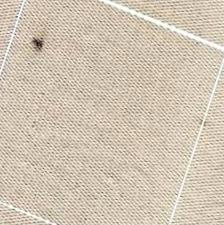stain: (28, 32, 52, 53)
